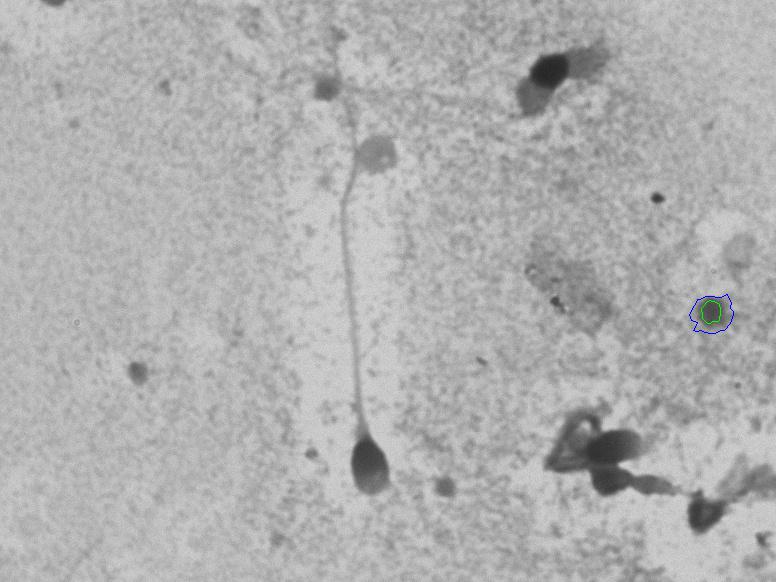Abnormal: (470, 33, 630, 193), (532, 379, 677, 492)
Normal: (293, 36, 420, 551)
